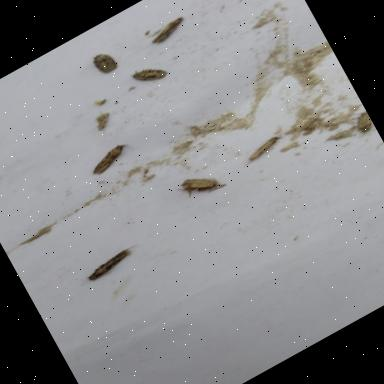pbw: (82, 240, 144, 284), (236, 128, 293, 168), (174, 164, 226, 207), (146, 13, 190, 48), (86, 144, 129, 178), (129, 57, 170, 91), (85, 47, 119, 80), (348, 112, 374, 138)
